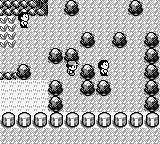captura: (0, 17, 17, 46)
main: (65, 61, 78, 76)
no-caminable: (0, 110, 160, 129), (144, 32, 160, 111), (80, 64, 110, 96), (48, 80, 65, 111), (49, 48, 80, 65), (80, 33, 96, 49), (112, 31, 127, 48), (16, 64, 31, 80), (129, 0, 144, 16), (65, 0, 80, 16)
npc: (98, 60, 110, 76), (19, 12, 30, 28)
salto: (0, 72, 16, 79)
